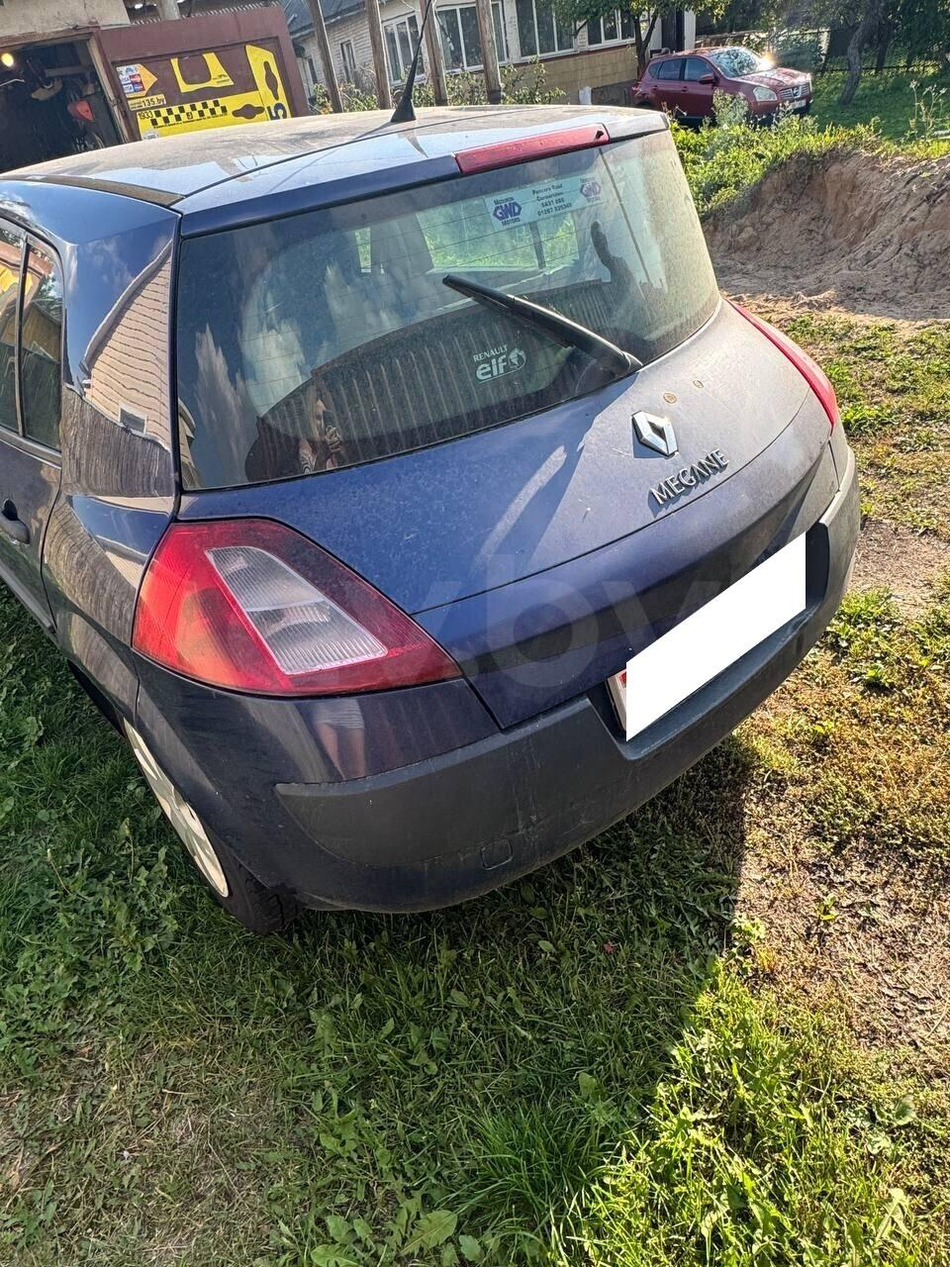Megane_2002-2006: (0, 106, 876, 919)
